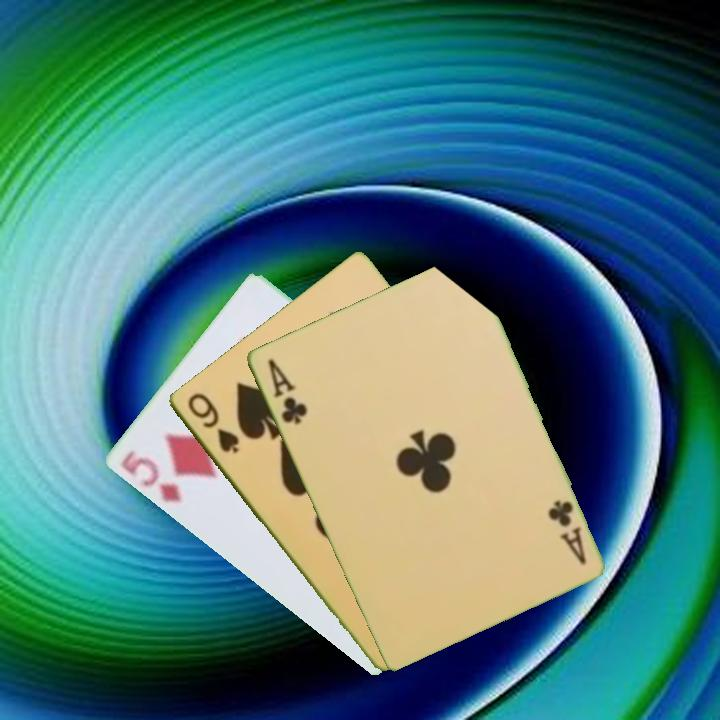5d: (116, 446, 184, 506)
9s: (183, 389, 242, 457)
Ac: (264, 354, 310, 427), (544, 496, 589, 568)
